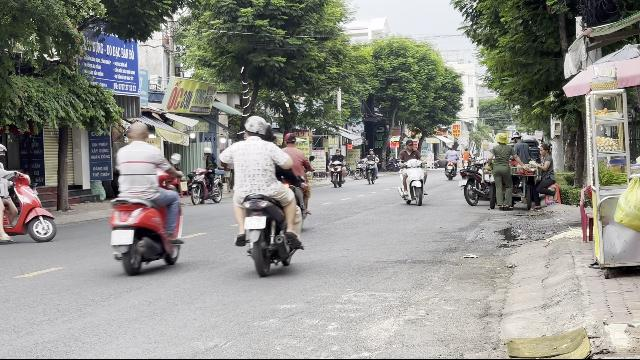helmet: (242, 114, 270, 138), (0, 143, 6, 161)
licenseplate: (110, 229, 134, 244), (244, 216, 266, 230)
motorcyclist: (225, 113, 308, 275), (105, 120, 185, 274), (0, 138, 60, 244)
nohelmet: (127, 121, 149, 142)
